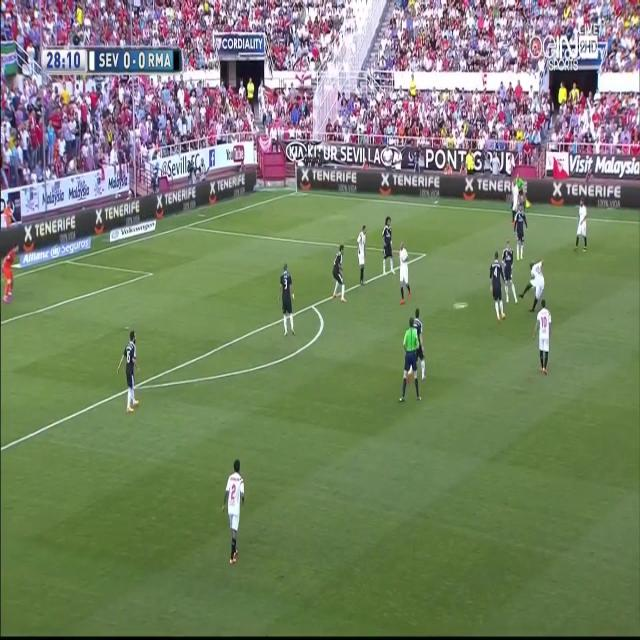Goalkeeper: (3, 242, 20, 307)
Player: (221, 458, 247, 567), (116, 327, 139, 416), (517, 256, 546, 314), (276, 260, 296, 338), (534, 299, 553, 381), (488, 249, 507, 326), (500, 240, 519, 306), (414, 307, 430, 383), (330, 244, 347, 305), (398, 240, 413, 308), (512, 204, 528, 260), (381, 216, 395, 278), (573, 199, 589, 253), (357, 225, 368, 288), (510, 175, 520, 215)
Referee: (398, 318, 422, 408)
